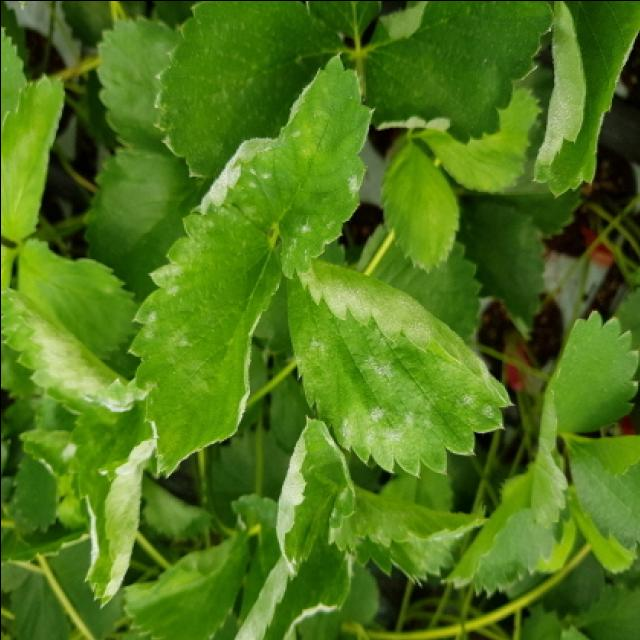Powdery Mildew Leaf: (283, 260, 515, 478), (127, 200, 280, 477), (195, 52, 374, 277), (0, 239, 145, 410), (527, 309, 638, 528), (532, 2, 638, 196), (74, 399, 153, 609), (274, 412, 356, 579), (232, 536, 352, 640)
